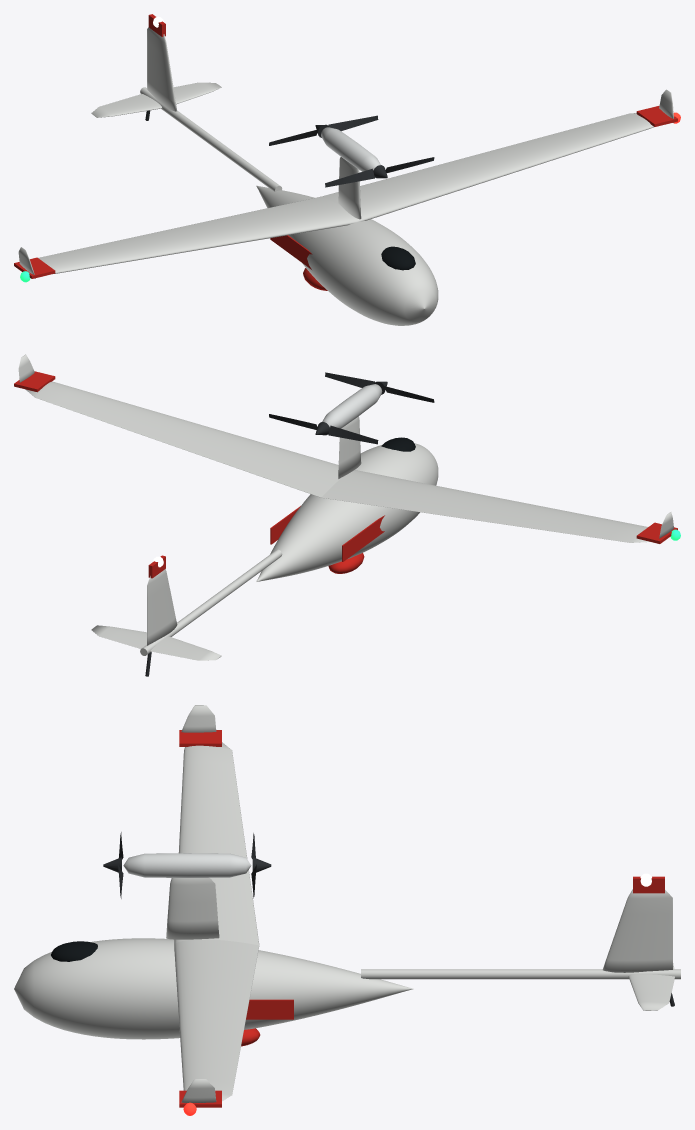
Rendered from drone.glb.
3 views of the same model, one above another, from view 1: azimuth 30°, elevation 25°; view 2: azimuth 150°, elevation 25°; view 3: azimuth 270°, elevation 25° (orthographic). The views are drawn at different scales.
Visible parts, largest first — view 1: drone_airframe_drone_body, drone_airframe_drone_red, drone_airframe_drone_nacelle, prop_front, prop_rear, drone_airframe_drone_glass; view 2: drone_airframe_drone_body, drone_airframe_drone_red, drone_airframe_drone_nacelle, prop_rear, prop_front; view 3: drone_airframe_drone_body, drone_airframe_drone_nacelle, drone_airframe_drone_red, drone_airframe_drone_glass.
Part boxes in pixels (x1,y1,x2,y2): drone_airframe_drone_body: [18, 27, 674, 325]; drone_airframe_drone_red: [14, 14, 677, 278]; drone_airframe_drone_nacelle: [321, 127, 380, 171]; prop_front: [325, 157, 434, 187]; prop_rear: [269, 115, 378, 145]; drone_airframe_drone_glass: [381, 246, 415, 270]; drone_airframe_drone_body: [18, 354, 673, 660]; drone_airframe_drone_red: [14, 371, 677, 578]; drone_airframe_drone_nacelle: [322, 384, 382, 428]; prop_rear: [269, 414, 378, 444]; prop_front: [325, 372, 434, 402]; drone_airframe_drone_body: [14, 705, 680, 1102]; drone_airframe_drone_nacelle: [123, 853, 251, 877]; drone_airframe_drone_red: [179, 730, 664, 1107]; drone_airframe_drone_glass: [51, 941, 97, 961].
Bounding box in the file's own units: 3.39 × 0.759 × 2.5.
